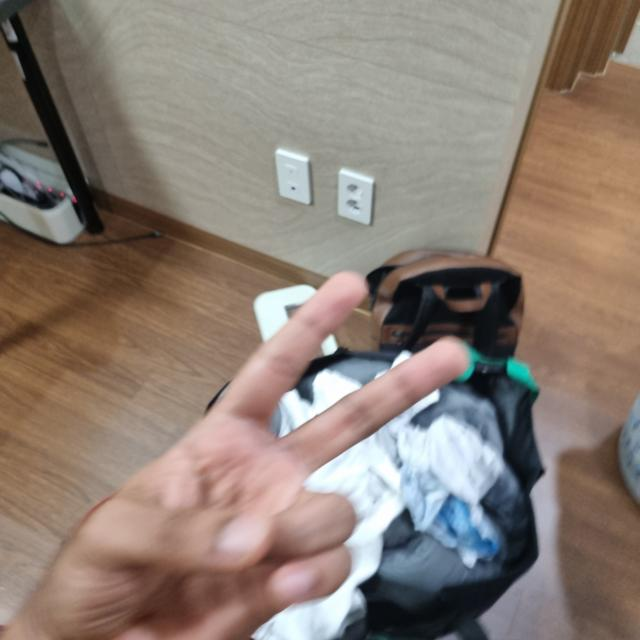Scissors: (5, 277, 454, 638)
